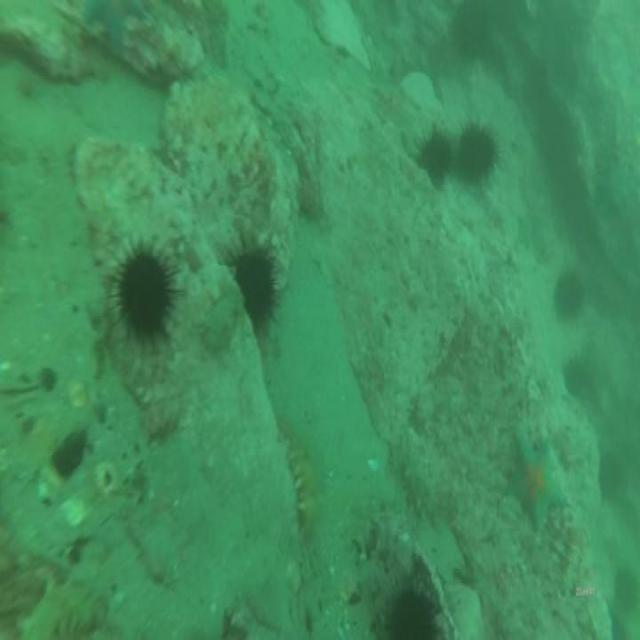echinus: (108, 229, 180, 360), (226, 226, 280, 340), (376, 567, 441, 640), (456, 114, 500, 190), (412, 115, 452, 193), (449, 0, 493, 68), (553, 262, 588, 327), (597, 446, 626, 507), (559, 351, 591, 400)
holothurian: (272, 409, 323, 552), (20, 575, 124, 640)
starfish: (506, 417, 570, 537), (81, 0, 161, 66)
